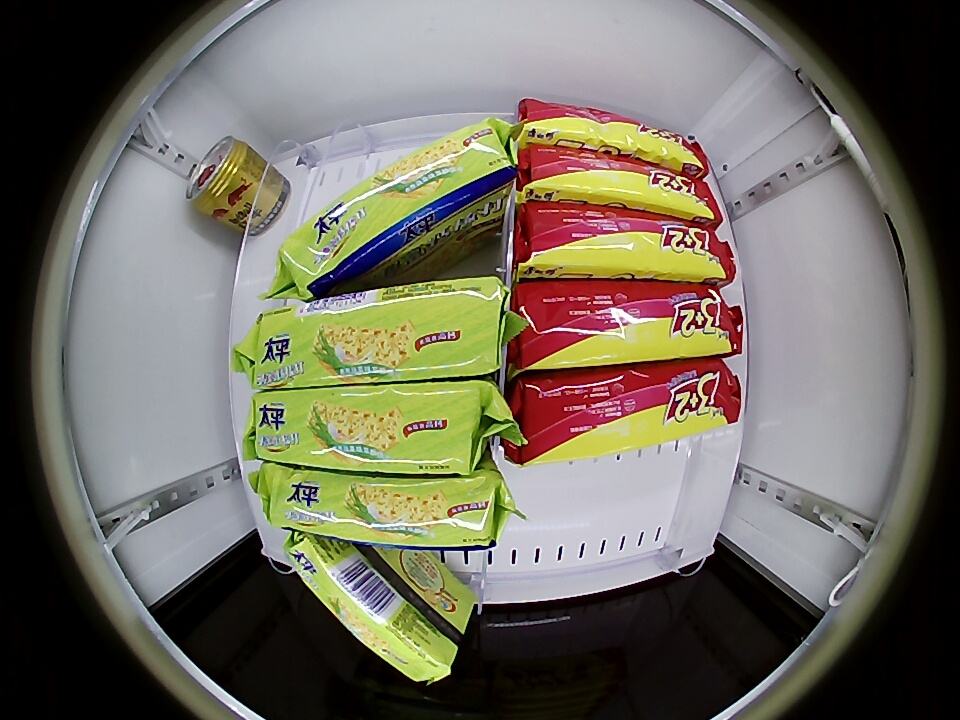3jia2: (516, 363, 732, 465), (517, 281, 734, 368), (522, 203, 730, 283), (526, 145, 715, 219), (518, 101, 703, 169)
hongniu: (185, 136, 256, 216)
taipingshuda: (286, 126, 512, 293), (255, 277, 502, 385), (290, 535, 465, 683), (253, 382, 485, 474), (265, 468, 501, 549)
